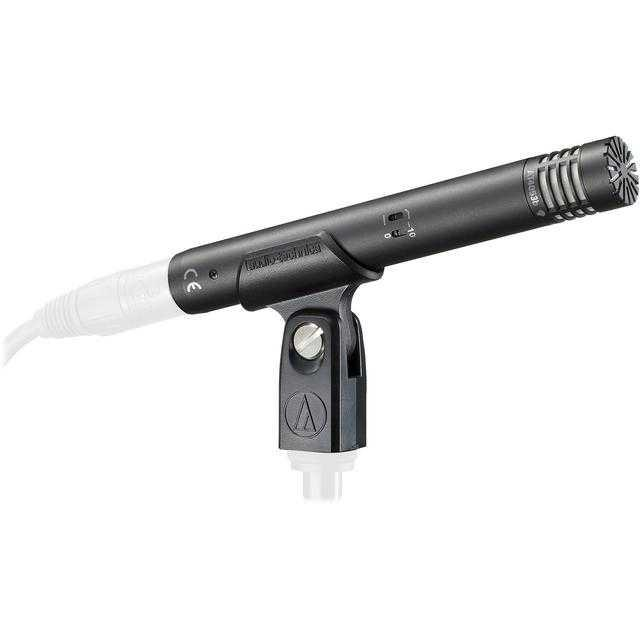microphone: (181, 135, 640, 309)
